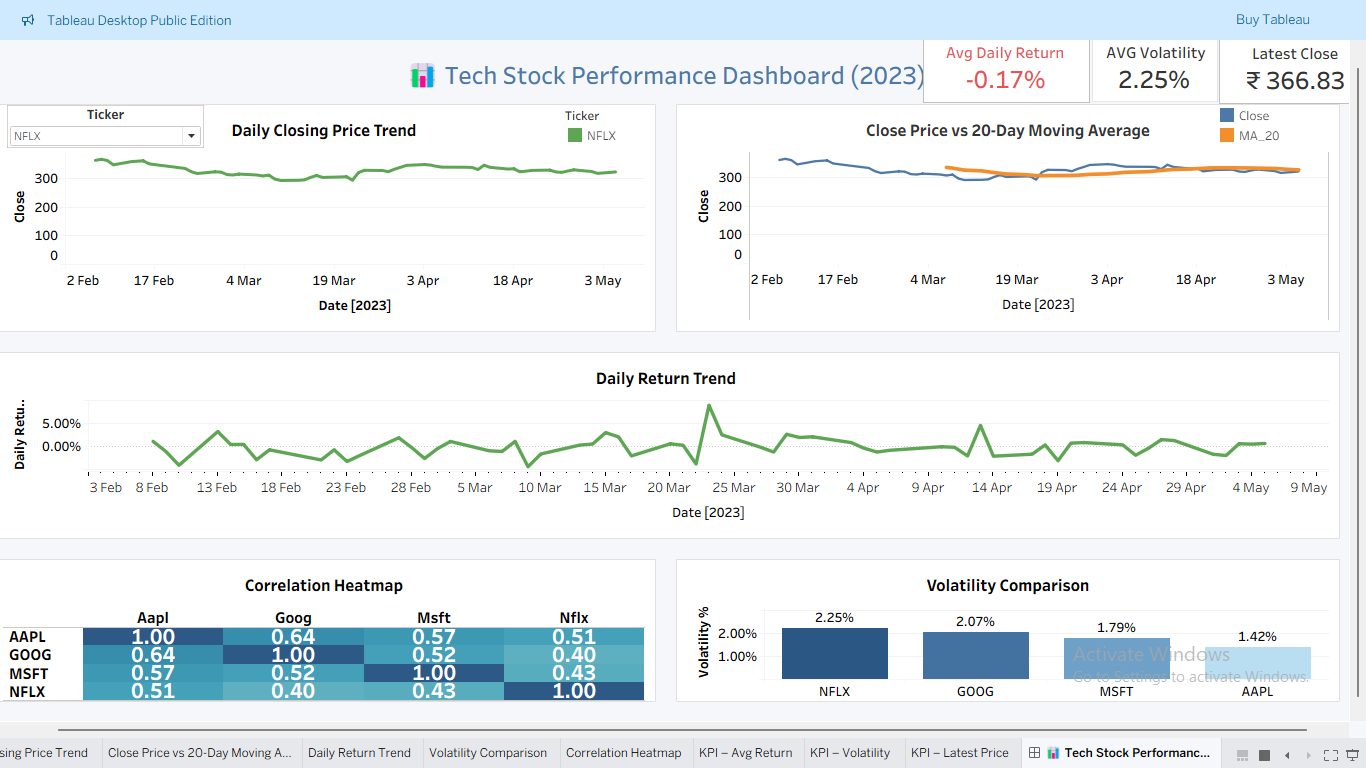

Layout of this report page (visuals, bound fields, positions):
{"tool":"tableau","page":{"name":"📊 Tech Stock Performance Dashboard (2023)","canvas":[1000,1000],"units":"permille","ordinal":0},"visuals":[{"type":"worksheet","title":"KPI – Avg Return","mark":"Automatic","box":[681,11.4,119,95.7]},{"type":"worksheet","title":"KPI – Volatility ","mark":"Automatic","box":[800,12.9,88.7,94.3]},{"type":"title","box":[18.3,37.1,963.4,57.1]},{"type":"worksheet","title":"Daily Closing Price Trend","mark":"Line","rows":["Close"],"cols":["Date"],"box":[18.3,94.3,481.7,354.3]},{"type":"worksheet","title":"Close Price vs 20-Day Moving Average","mark":"Line","rows":["Close","MA_20"],"cols":["Date"],"box":[500,94.3,481.7,354.3]},{"type":"filter","title":"Close Price vs 20-Day Moving Average","param":"[federated.06obs0t0fifz5q1c4ge5w0dly3rs].[none:Ticker:nk]","box":[50,110,138.7,61.4]},{"type":"legend","title":"Close Price vs 20-Day Moving Average","param":"[federated.06obs0t0fifz5q1c4ge5w0dly3rs].[:Measure Names]","box":[888,110,85.9,58.6]},{"type":"legend","title":"Daily Closing Price Trend","param":"[federated.06obs0t0fifz5q1c4ge5w0dly3rs].[none:Ticker:nk]","box":[428.9,112.9,65.5,55.7]},{"type":"worksheet","title":"Daily Return Trend","mark":"Line","rows":["Daily_Return"],"cols":["Date"],"box":[18.3,448.6,963.4,295.7]},{"type":"worksheet","title":"Correlation Heatmap","mark":"Square","rows":["Ticker"],"cols":["Pivot Field Names"],"box":[18.3,744.3,481.7,218.6]},{"type":"worksheet","title":"Volatility Comparison","mark":"Bar","rows":["Calculation_1467336325128192"],"cols":["Ticker"],"box":[500,744.3,481.7,218.6]}]}

Visuals, with their boxes on the dashboard's canvas, which has no fixed pixel size, in thousandths of its width and height (x1, y1, x2, y2). These are canvas units, not pixel positions in the 1366x768 screenshot, which may show the page scaled, cropped or inside an application window:
"KPI – Avg Return" worksheet: detection(681, 11, 800, 107)
"KPI – Volatility " worksheet: detection(800, 13, 889, 107)
title: detection(18, 37, 982, 94)
"Daily Closing Price Trend" worksheet (Line marks): detection(18, 94, 500, 449)
"Close Price vs 20-Day Moving Average" worksheet (Line marks): detection(500, 94, 982, 449)
"Close Price vs 20-Day Moving Average" filter: detection(50, 110, 189, 171)
"Close Price vs 20-Day Moving Average" legend: detection(888, 110, 974, 169)
"Daily Closing Price Trend" legend: detection(429, 113, 494, 169)
"Daily Return Trend" worksheet (Line marks): detection(18, 449, 982, 744)
"Correlation Heatmap" worksheet (Square marks): detection(18, 744, 500, 963)
"Volatility Comparison" worksheet (Bar marks): detection(500, 744, 982, 963)
